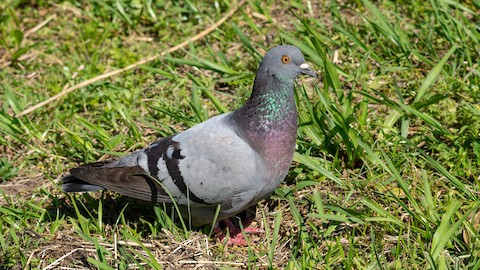pigeon: (53, 43, 320, 246)
